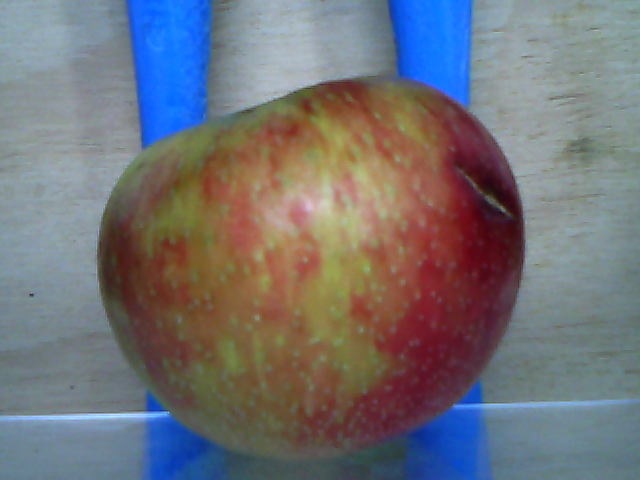cut: (451, 165, 512, 220)
